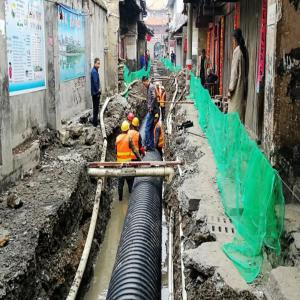none: (233, 27, 244, 48), (95, 58, 102, 71), (143, 76, 150, 88), (201, 49, 207, 59)
red: (128, 115, 135, 125)
yellow: (122, 121, 130, 135), (133, 118, 140, 130), (154, 114, 160, 124), (162, 87, 166, 94), (157, 83, 160, 89)
